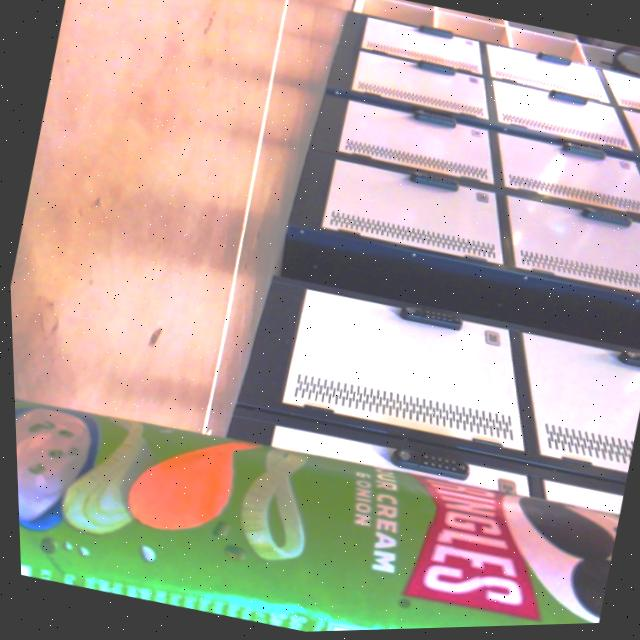greenpringles: (11, 354, 623, 640)
